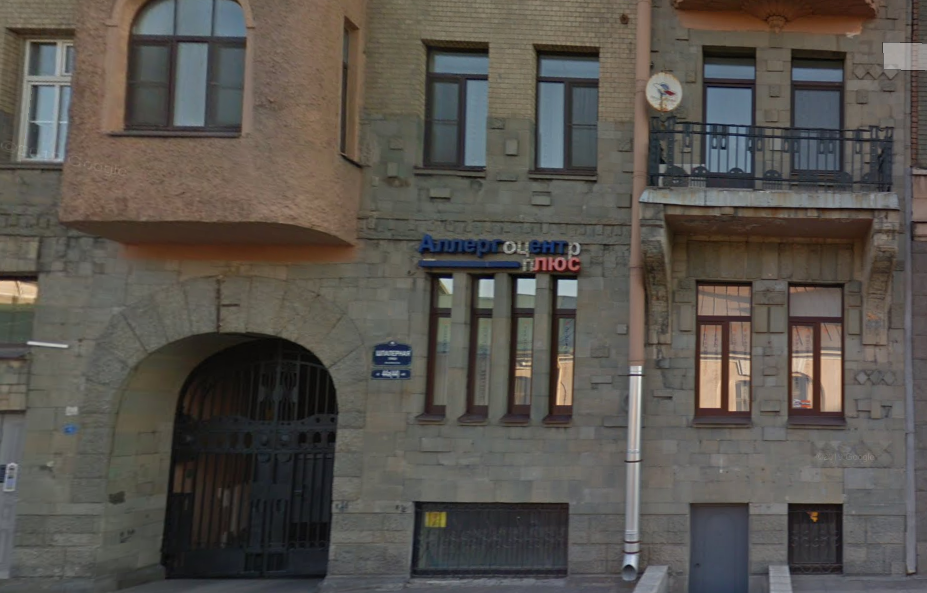arch: (115, 333, 333, 579)
signboard: (415, 229, 585, 275)
window: (115, 1, 246, 136), (409, 508, 570, 581), (789, 284, 845, 419), (426, 50, 491, 165), (17, 37, 76, 162), (538, 53, 600, 170), (698, 283, 753, 414), (792, 58, 845, 173), (707, 53, 755, 170), (548, 275, 578, 419), (425, 275, 455, 417), (465, 275, 494, 418), (511, 278, 534, 422)
